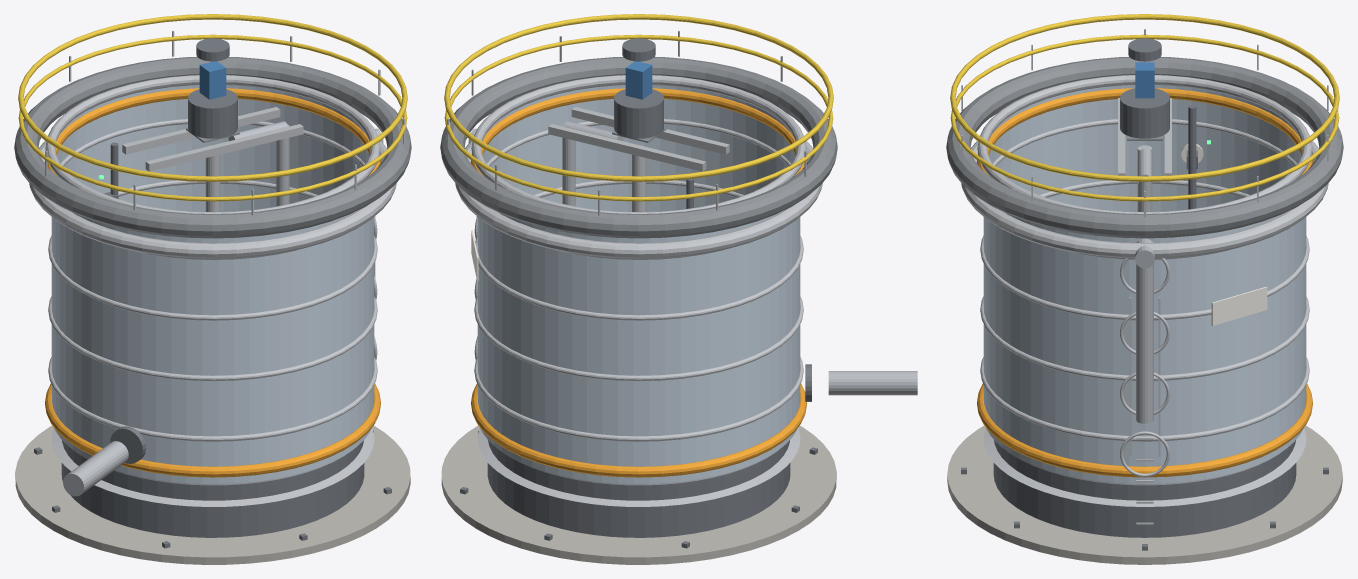
File: TailingNeutTank_IndustrialUV.fbx
3 views of the same model, side by side, from view 1: azimuth 30°, elevation 25°; view 2: azimuth 150°, elevation 25°; view 3: azimuth 270°, elevation 25° (orthographic).
Parts seen in each view (by area): view 1: TNT_Shell_Glass, TNT_Platform_Grate, TNT_Concrete_Plinth, TNT_Pedestal_Ring, TNT_Launder_Outer, TNT_TopRail, TNT_TopCurb, TNT_MidRail, TNT_HazardBand_Low, TNT_HazardBand_High, TNT_WeldBand_46, TNT_DishedBottom (+12 smaller); view 2: TNT_Shell_Glass, TNT_Platform_Grate, TNT_Concrete_Plinth, TNT_Pedestal_Ring, TNT_Launder_Outer, TNT_TopRail, TNT_TopCurb, TNT_MidRail, TNT_HazardBand_Low, TNT_DishedBottom, TNT_HazardBand_High, TNT_WeldBand_46 (+11 smaller); view 3: TNT_Shell_Glass, TNT_Platform_Grate, TNT_Concrete_Plinth, TNT_Pedestal_Ring, TNT_Launder_Outer, TNT_TopRail, TNT_TopCurb, TNT_MidRail, TNT_HazardBand_Low, TNT_HazardBand_High, TNT_DishedBottom, TNT_OverflowPipe (+10 smaller).
Boxes of the visible parts, box(x1,y1,x2,y2) form: TNT_Shell_Glass: box(51, 85, 374, 483); TNT_Platform_Grate: box(14, 57, 411, 238); TNT_Concrete_Plinth: box(15, 425, 410, 564); TNT_Pedestal_Ring: box(61, 440, 364, 537); TNT_Launder_Outer: box(29, 141, 396, 258); TNT_TopRail: box(18, 14, 407, 181); TNT_TopCurb: box(45, 75, 380, 213); TNT_MidRail: box(18, 34, 407, 201); TNT_HazardBand_Low: box(45, 383, 380, 477); TNT_HazardBand_High: box(45, 88, 380, 175); TNT_WeldBand_46: box(48, 180, 377, 320); TNT_DishedBottom: box(51, 428, 374, 506); TNT_Shell_Glass: box(477, 85, 800, 483); TNT_Platform_Grate: box(440, 57, 837, 238); TNT_Concrete_Plinth: box(441, 425, 836, 564); TNT_Pedestal_Ring: box(487, 440, 790, 537); TNT_Launder_Outer: box(455, 141, 822, 258); TNT_TopRail: box(444, 14, 833, 181); TNT_TopCurb: box(471, 75, 806, 213); TNT_MidRail: box(444, 34, 833, 201); TNT_HazardBand_Low: box(471, 383, 807, 477); TNT_DishedBottom: box(477, 428, 800, 506); TNT_HazardBand_High: box(471, 88, 806, 176); TNT_WeldBand_46: box(475, 180, 803, 320); TNT_Shell_Glass: box(983, 85, 1306, 483); TNT_Platform_Grate: box(946, 57, 1343, 238); TNT_Concrete_Plinth: box(947, 425, 1342, 564); TNT_Pedestal_Ring: box(993, 440, 1296, 537); TNT_Launder_Outer: box(961, 141, 1328, 258); TNT_TopRail: box(950, 14, 1339, 181); TNT_TopCurb: box(977, 75, 1312, 213); TNT_MidRail: box(950, 34, 1339, 201); TNT_HazardBand_Low: box(977, 383, 1312, 477); TNT_HazardBand_High: box(977, 88, 1312, 176); TNT_DishedBottom: box(983, 428, 1306, 506); TNT_OverflowPipe: box(1136, 263, 1153, 423).
Size of the model in its own units: 8.01 by 8.64 by 7.14.
